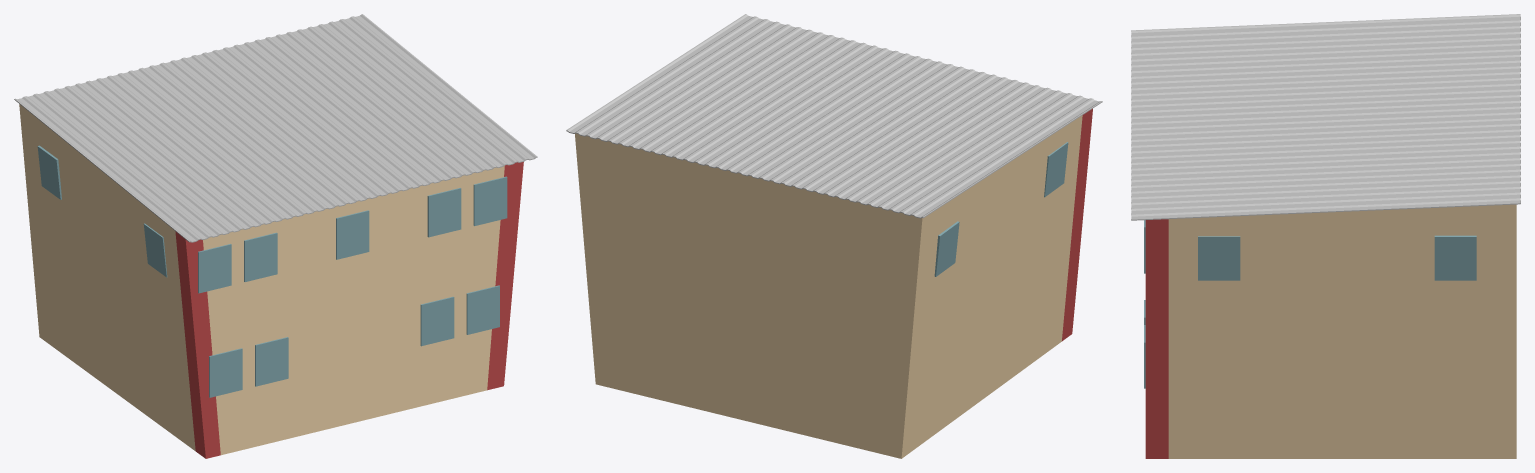
Rendered from Factory (building 3).fbx.
The picture shows the model from 3 angles, left to right: view 1: azimuth 30°, elevation 25°; view 2: azimuth 150°, elevation 25°; view 3: azimuth 270°, elevation 25°; orthographic projection. The views are drawn at different scales.
Visible parts, largest first — view 1: Factory (building 3); view 2: Factory (building 3); view 3: Factory (building 3).
Part boxes in pixels (<box>): Factory (building 3): <box>14,14,537,458</box>; Factory (building 3): <box>566,14,1102,458</box>; Factory (building 3): <box>1131,14,1520,458</box>.
Size of the model in its own units: 4139 by 2754 by 3599.
